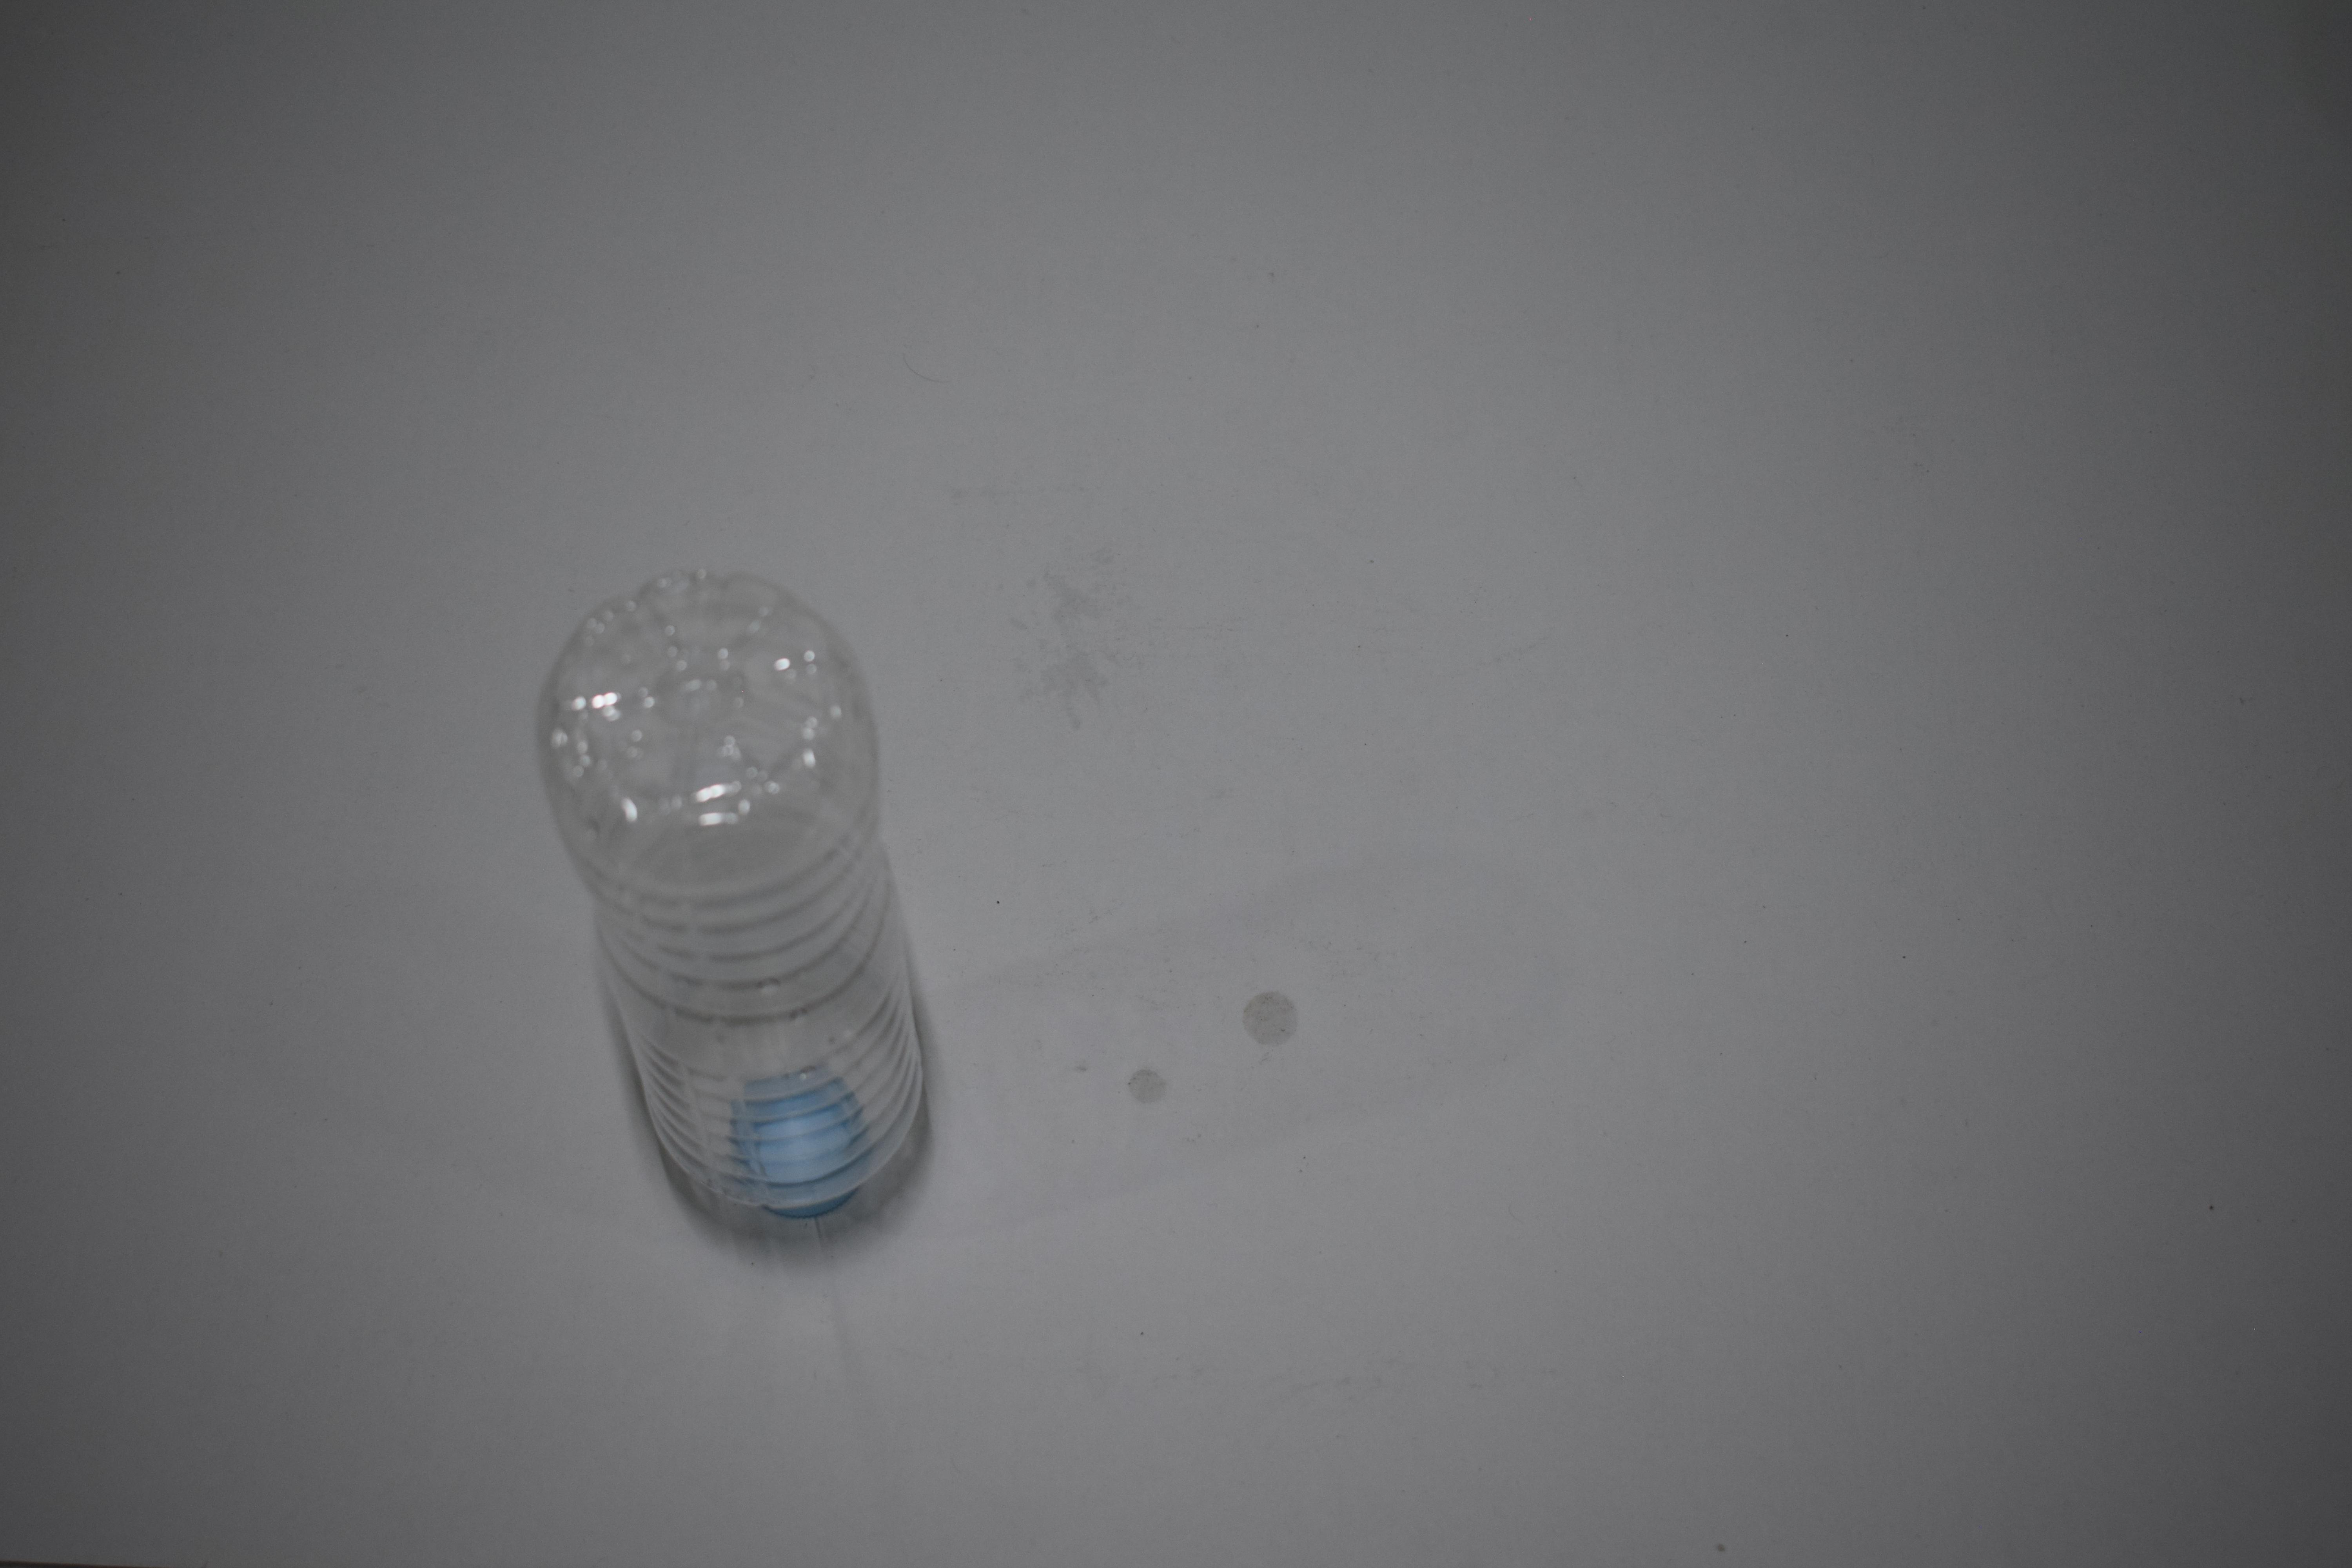bottle: (525, 0, 941, 446)
